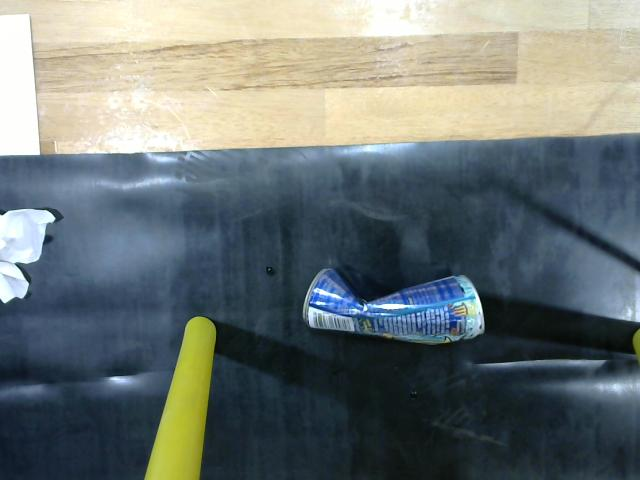can: (299, 264, 486, 346)
